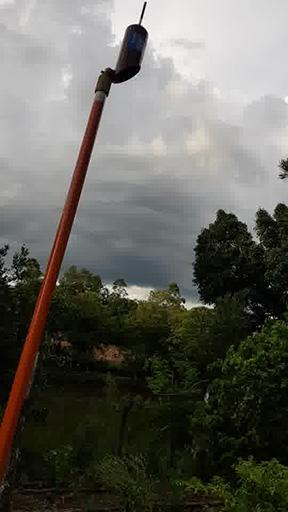Detector_Tensao_Contato: (110, 1, 150, 84)
Vara_Manobra: (1, 77, 110, 475)
